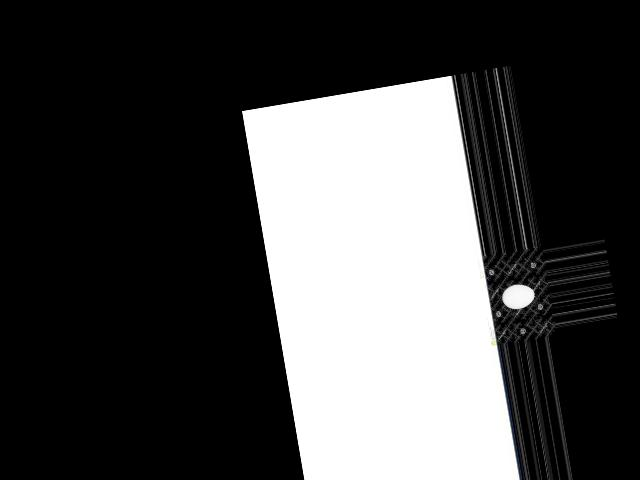egg: (500, 281, 535, 310)
